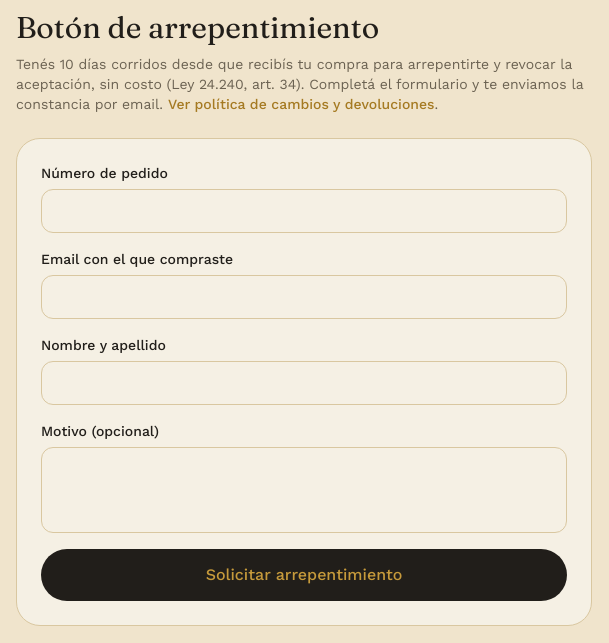
Scenario: Arrepentimiento › muestra la constancia al enviar la solicitud
Type "12" into the number field labelled "Número de pedido" at [304, 211], box [41,189,567,233]
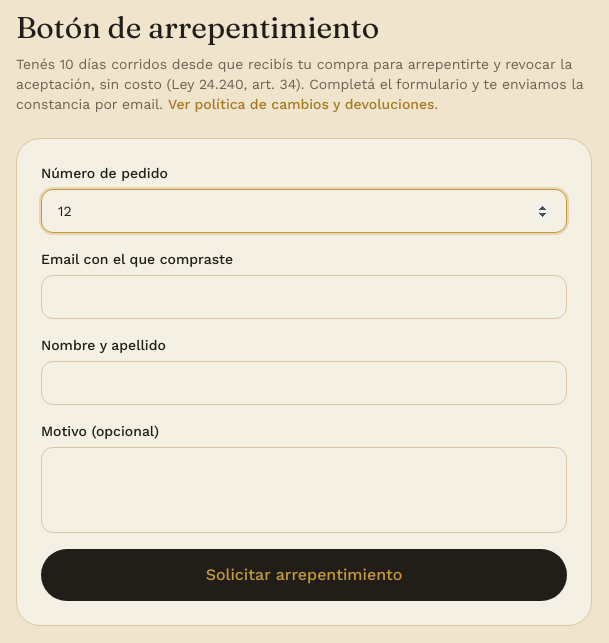
Type "cliente@example.com" into the field labelled "Email con el que compraste" at [304, 297], box [41,275,567,319]
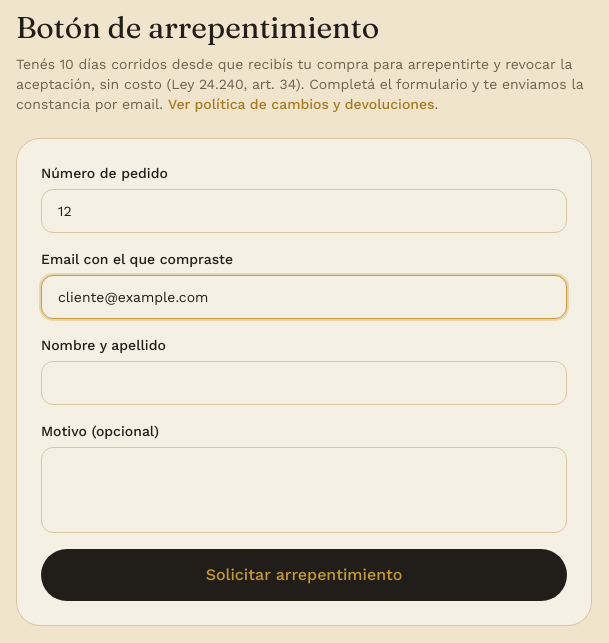
Type "Cliente Test" into the field labelled "Nombre y apellido" at [304, 383], box [41,361,567,405]
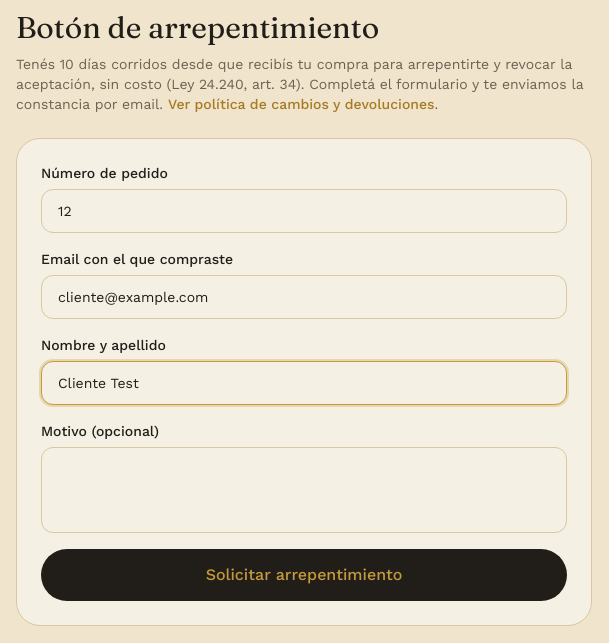
Click the button "Solicitar arrepentimiento" at [304, 575], box [41,549,567,601]
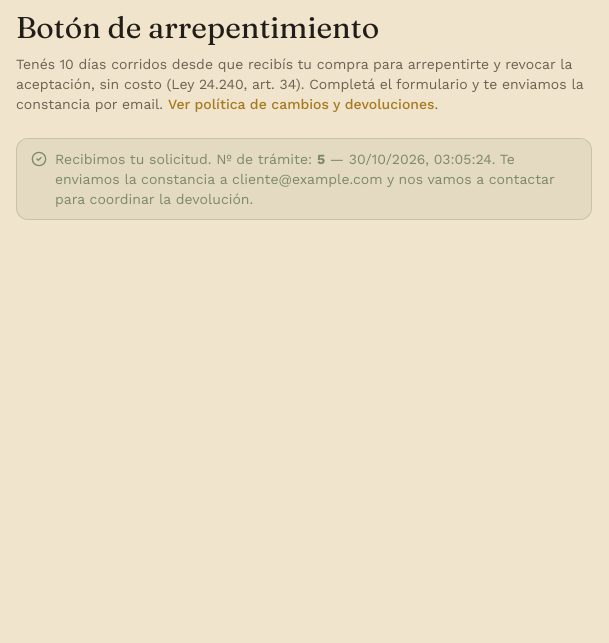
Check: the text "Nº de trámite" is shown, box [55,151,317,167]
